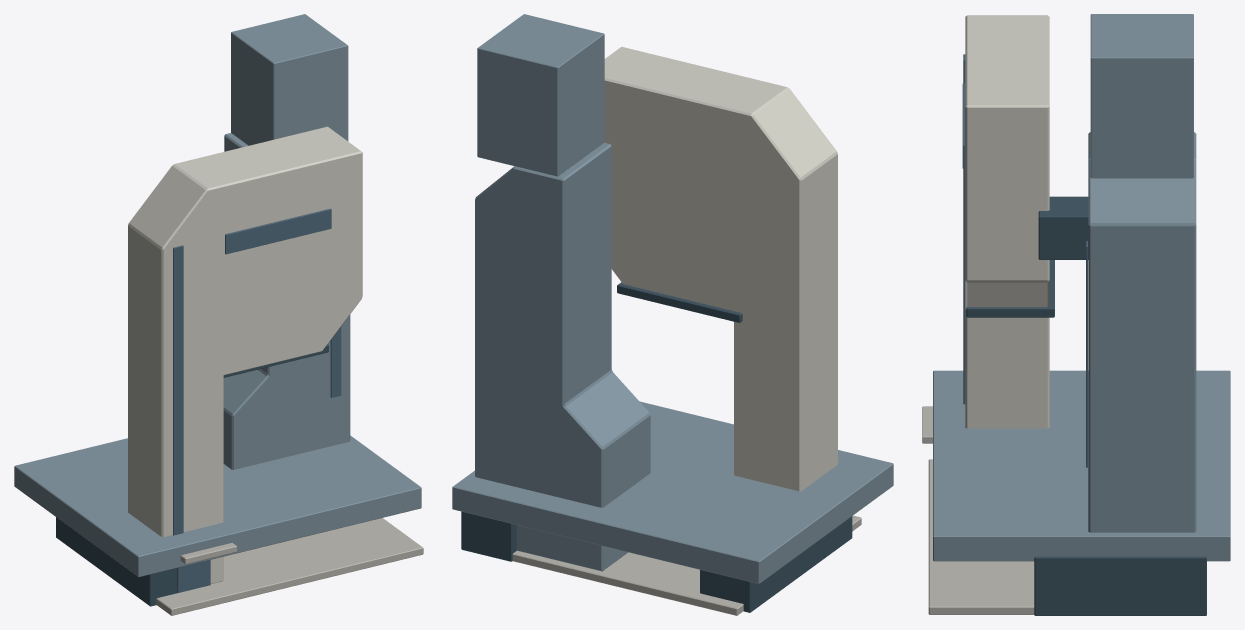
The model's file is CityV7_PairedLandmark.fbx.
3 renders of one model, left to right at view 1: azimuth 30°, elevation 25°; view 2: azimuth 150°, elevation 25°; view 3: azimuth 270°, elevation 25°, orthographic. The views are drawn at different scales.
Visible parts, largest first — view 1: CityV7_PairedLandmark__CityV7_Pale, CityV7_PairedLandmark__CityV7_BlueStone, CityV7_PairedLandmark__CityV7_Mineral, CityV7_PairedLandmark__CityV7_Glass, CityV7_PairedLandmark__CityV7_Structure; view 2: CityV7_PairedLandmark__CityV7_BlueStone, CityV7_PairedLandmark__CityV7_Pale, CityV7_PairedLandmark__CityV7_Structure, CityV7_PairedLandmark__CityV7_Mineral; view 3: CityV7_PairedLandmark__CityV7_BlueStone, CityV7_PairedLandmark__CityV7_Pale, CityV7_PairedLandmark__CityV7_Structure, CityV7_PairedLandmark__CityV7_Mineral, CityV7_PairedLandmark__CityV7_Glass.
Part boxes in pixels (box(x1,y1,x2,y2)): CityV7_PairedLandmark__CityV7_Pale: box(128, 126, 362, 583); CityV7_PairedLandmark__CityV7_BlueStone: box(14, 14, 421, 577); CityV7_PairedLandmark__CityV7_Mineral: box(156, 518, 423, 615); CityV7_PairedLandmark__CityV7_Glass: box(173, 208, 341, 592); CityV7_PairedLandmark__CityV7_Structure: box(56, 344, 328, 606); CityV7_PairedLandmark__CityV7_BlueStone: box(452, 14, 893, 583); CityV7_PairedLandmark__CityV7_Pale: box(604, 46, 837, 491); CityV7_PairedLandmark__CityV7_Structure: box(461, 282, 852, 612); CityV7_PairedLandmark__CityV7_Mineral: box(512, 515, 861, 615); CityV7_PairedLandmark__CityV7_BlueStone: box(933, 14, 1230, 561); CityV7_PairedLandmark__CityV7_Pale: box(965, 15, 1049, 428); CityV7_PairedLandmark__CityV7_Structure: box(966, 196, 1206, 615); CityV7_PairedLandmark__CityV7_Mineral: box(922, 406, 1034, 614); CityV7_PairedLandmark__CityV7_Glass: box(962, 54, 1087, 467).
Bounding box in the file's own units: 18.3 × 28.3 × 14.3.
